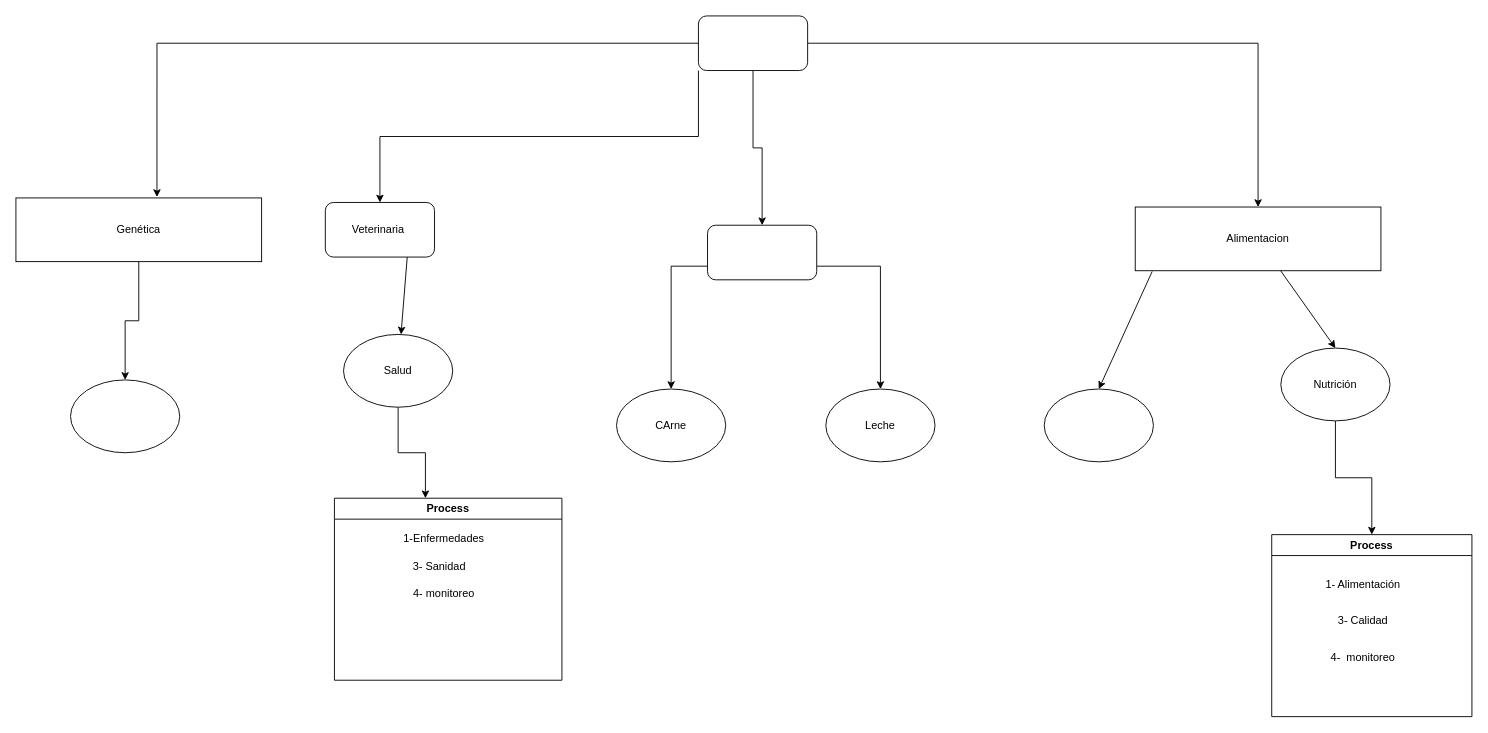
This 1488x733 diagram has some shape labels left out. The centre of each missing label's shape, as x and y in pixels:
Calidad: point (1098, 425)
Cruce genético entre especies: point (125, 416)
GANADERIA: point (753, 43)
Produccion: point (762, 252)
